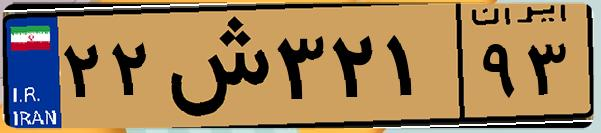1: (385, 28, 445, 110)
2: (330, 28, 385, 110), (57, 26, 110, 100), (110, 28, 158, 98)
3: (270, 28, 330, 110), (525, 38, 570, 115)
9: (475, 38, 525, 113)
ش: (158, 12, 270, 120)
